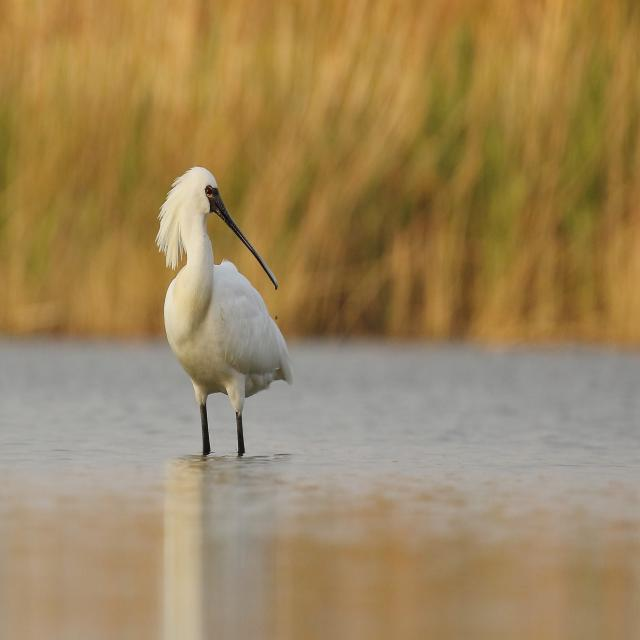Black-faced spoonbill: (157, 167, 292, 455)
